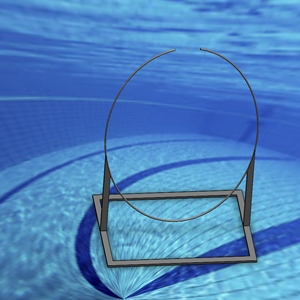circle: (92, 45, 259, 267)
